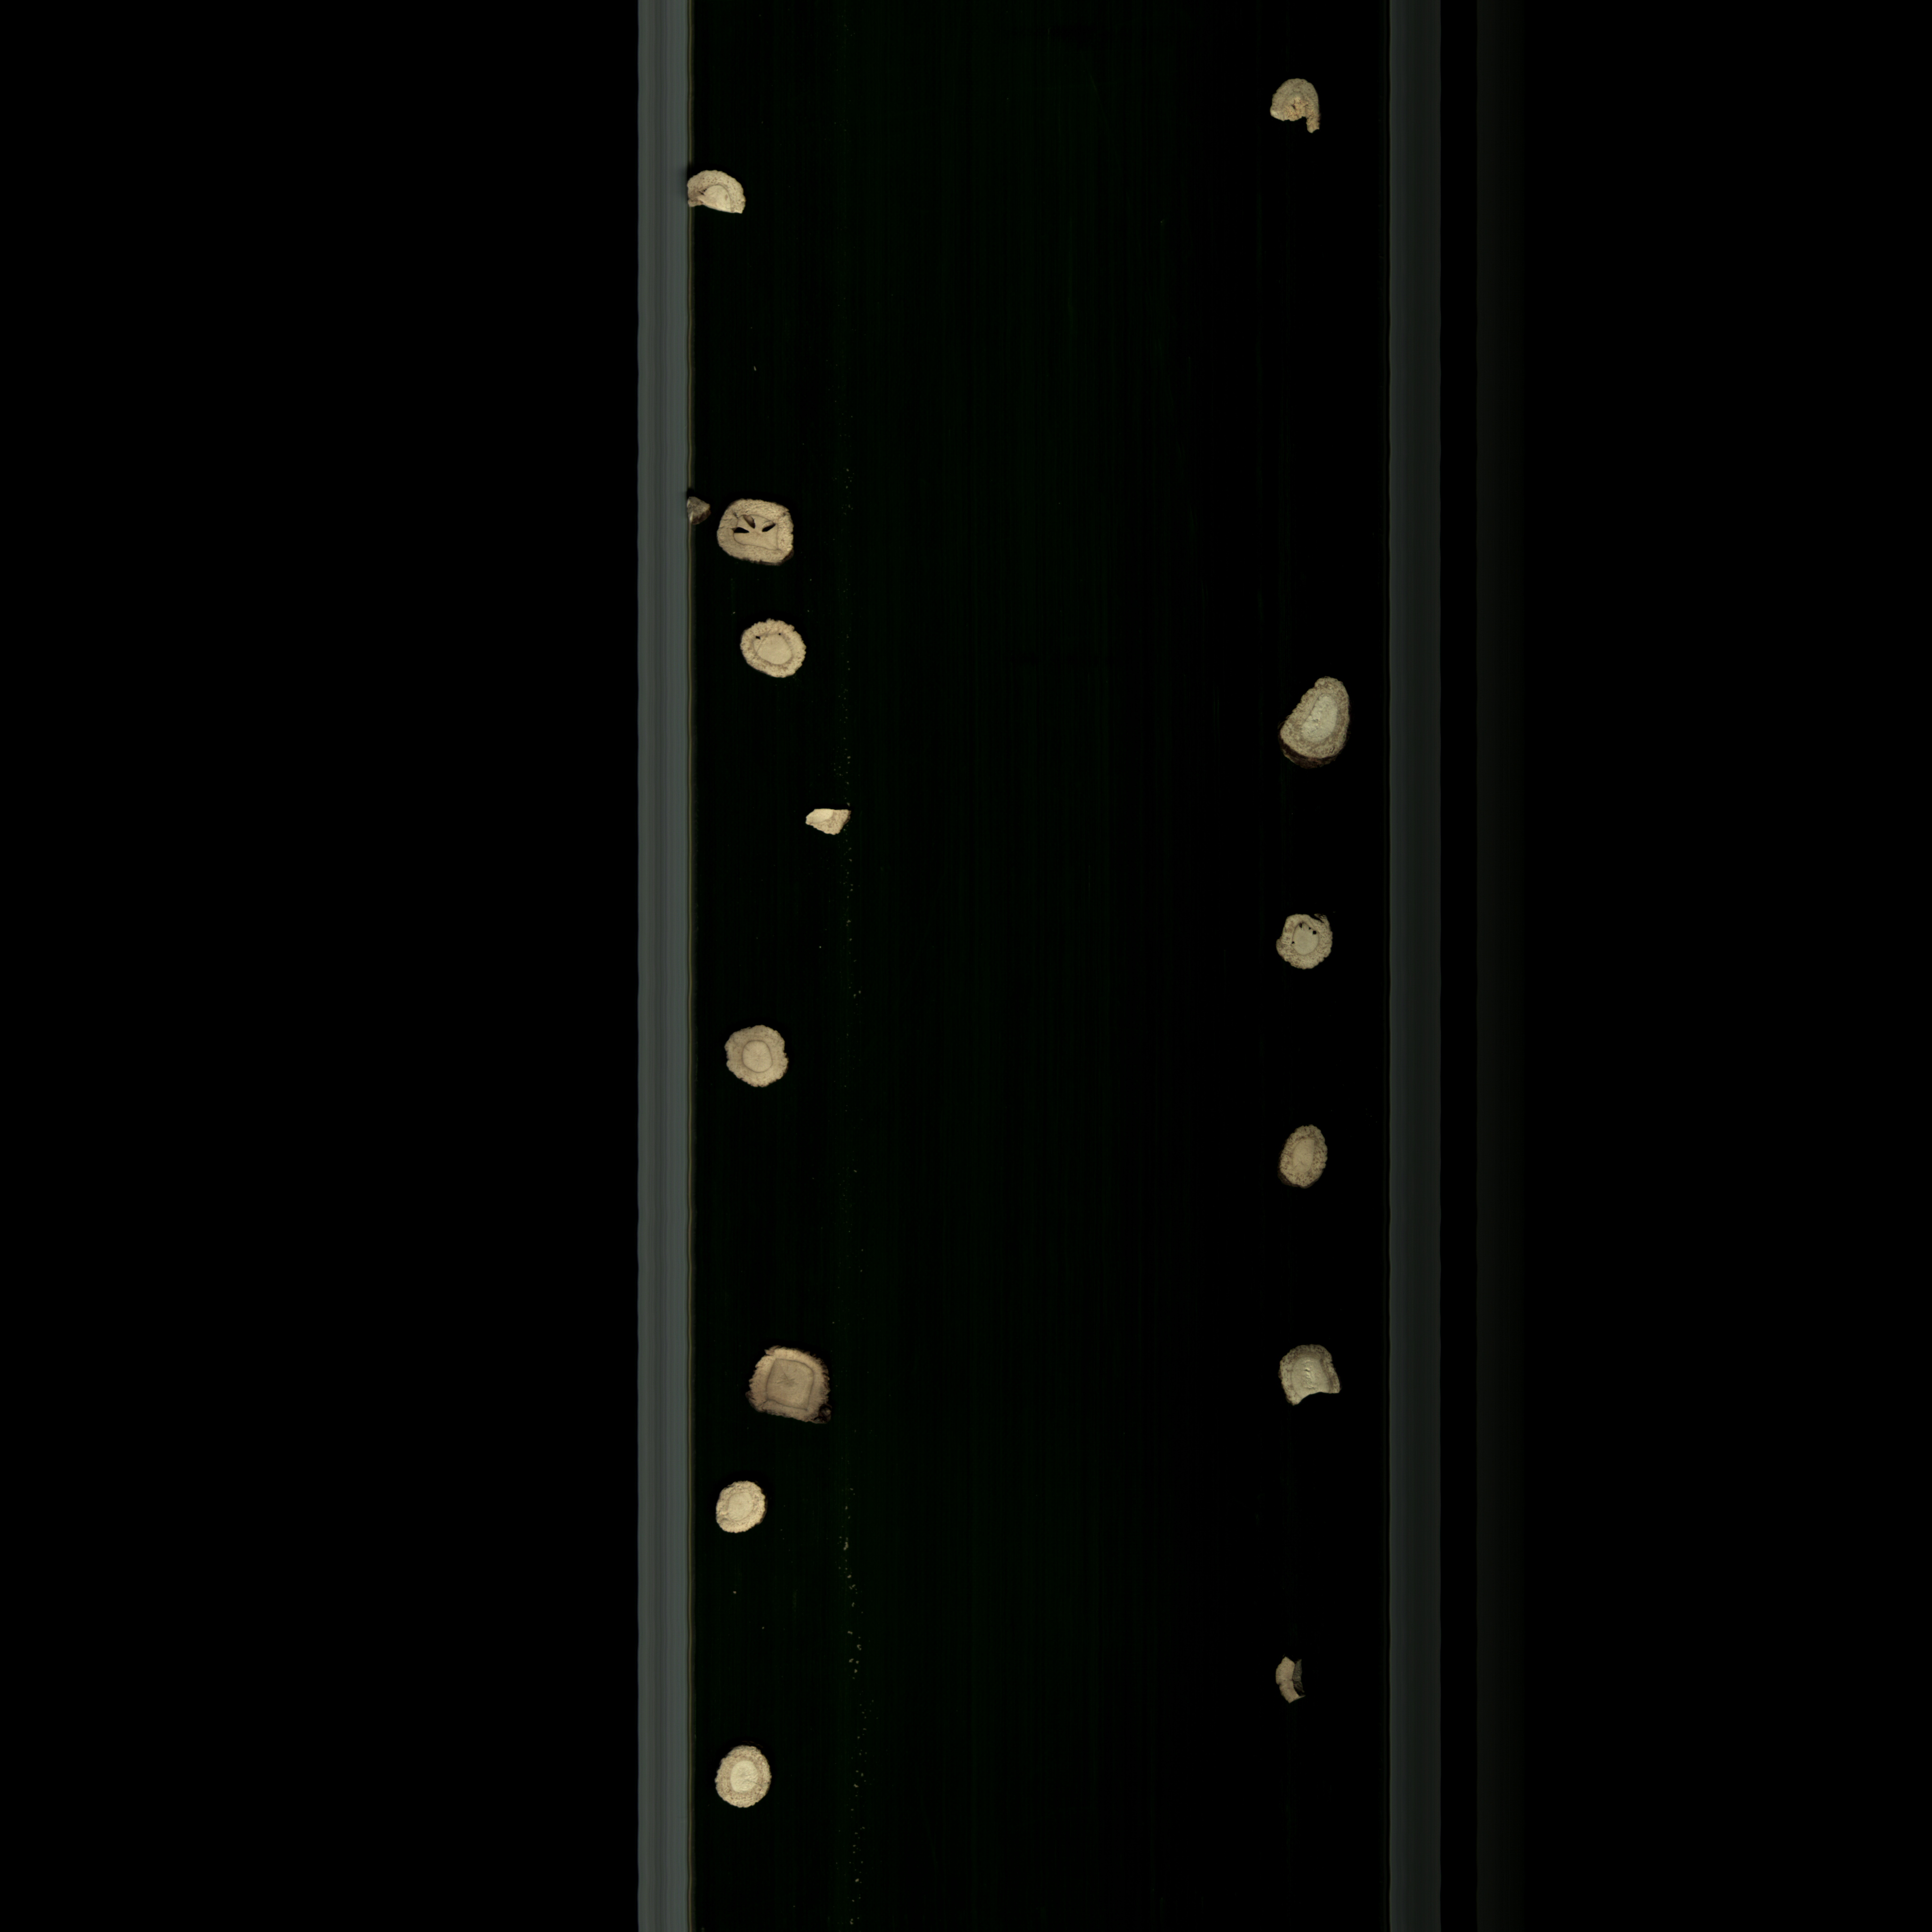distortion: (1261, 1651, 1315, 1718), (794, 800, 858, 847), (676, 488, 715, 527)
hole: (713, 495, 814, 579), (729, 614, 821, 688), (1276, 908, 1345, 985)
moldy: (736, 1336, 847, 1444), (1277, 665, 1353, 786), (1274, 1336, 1352, 1422), (1267, 1116, 1338, 1203), (1261, 67, 1332, 150), (683, 166, 764, 225)
